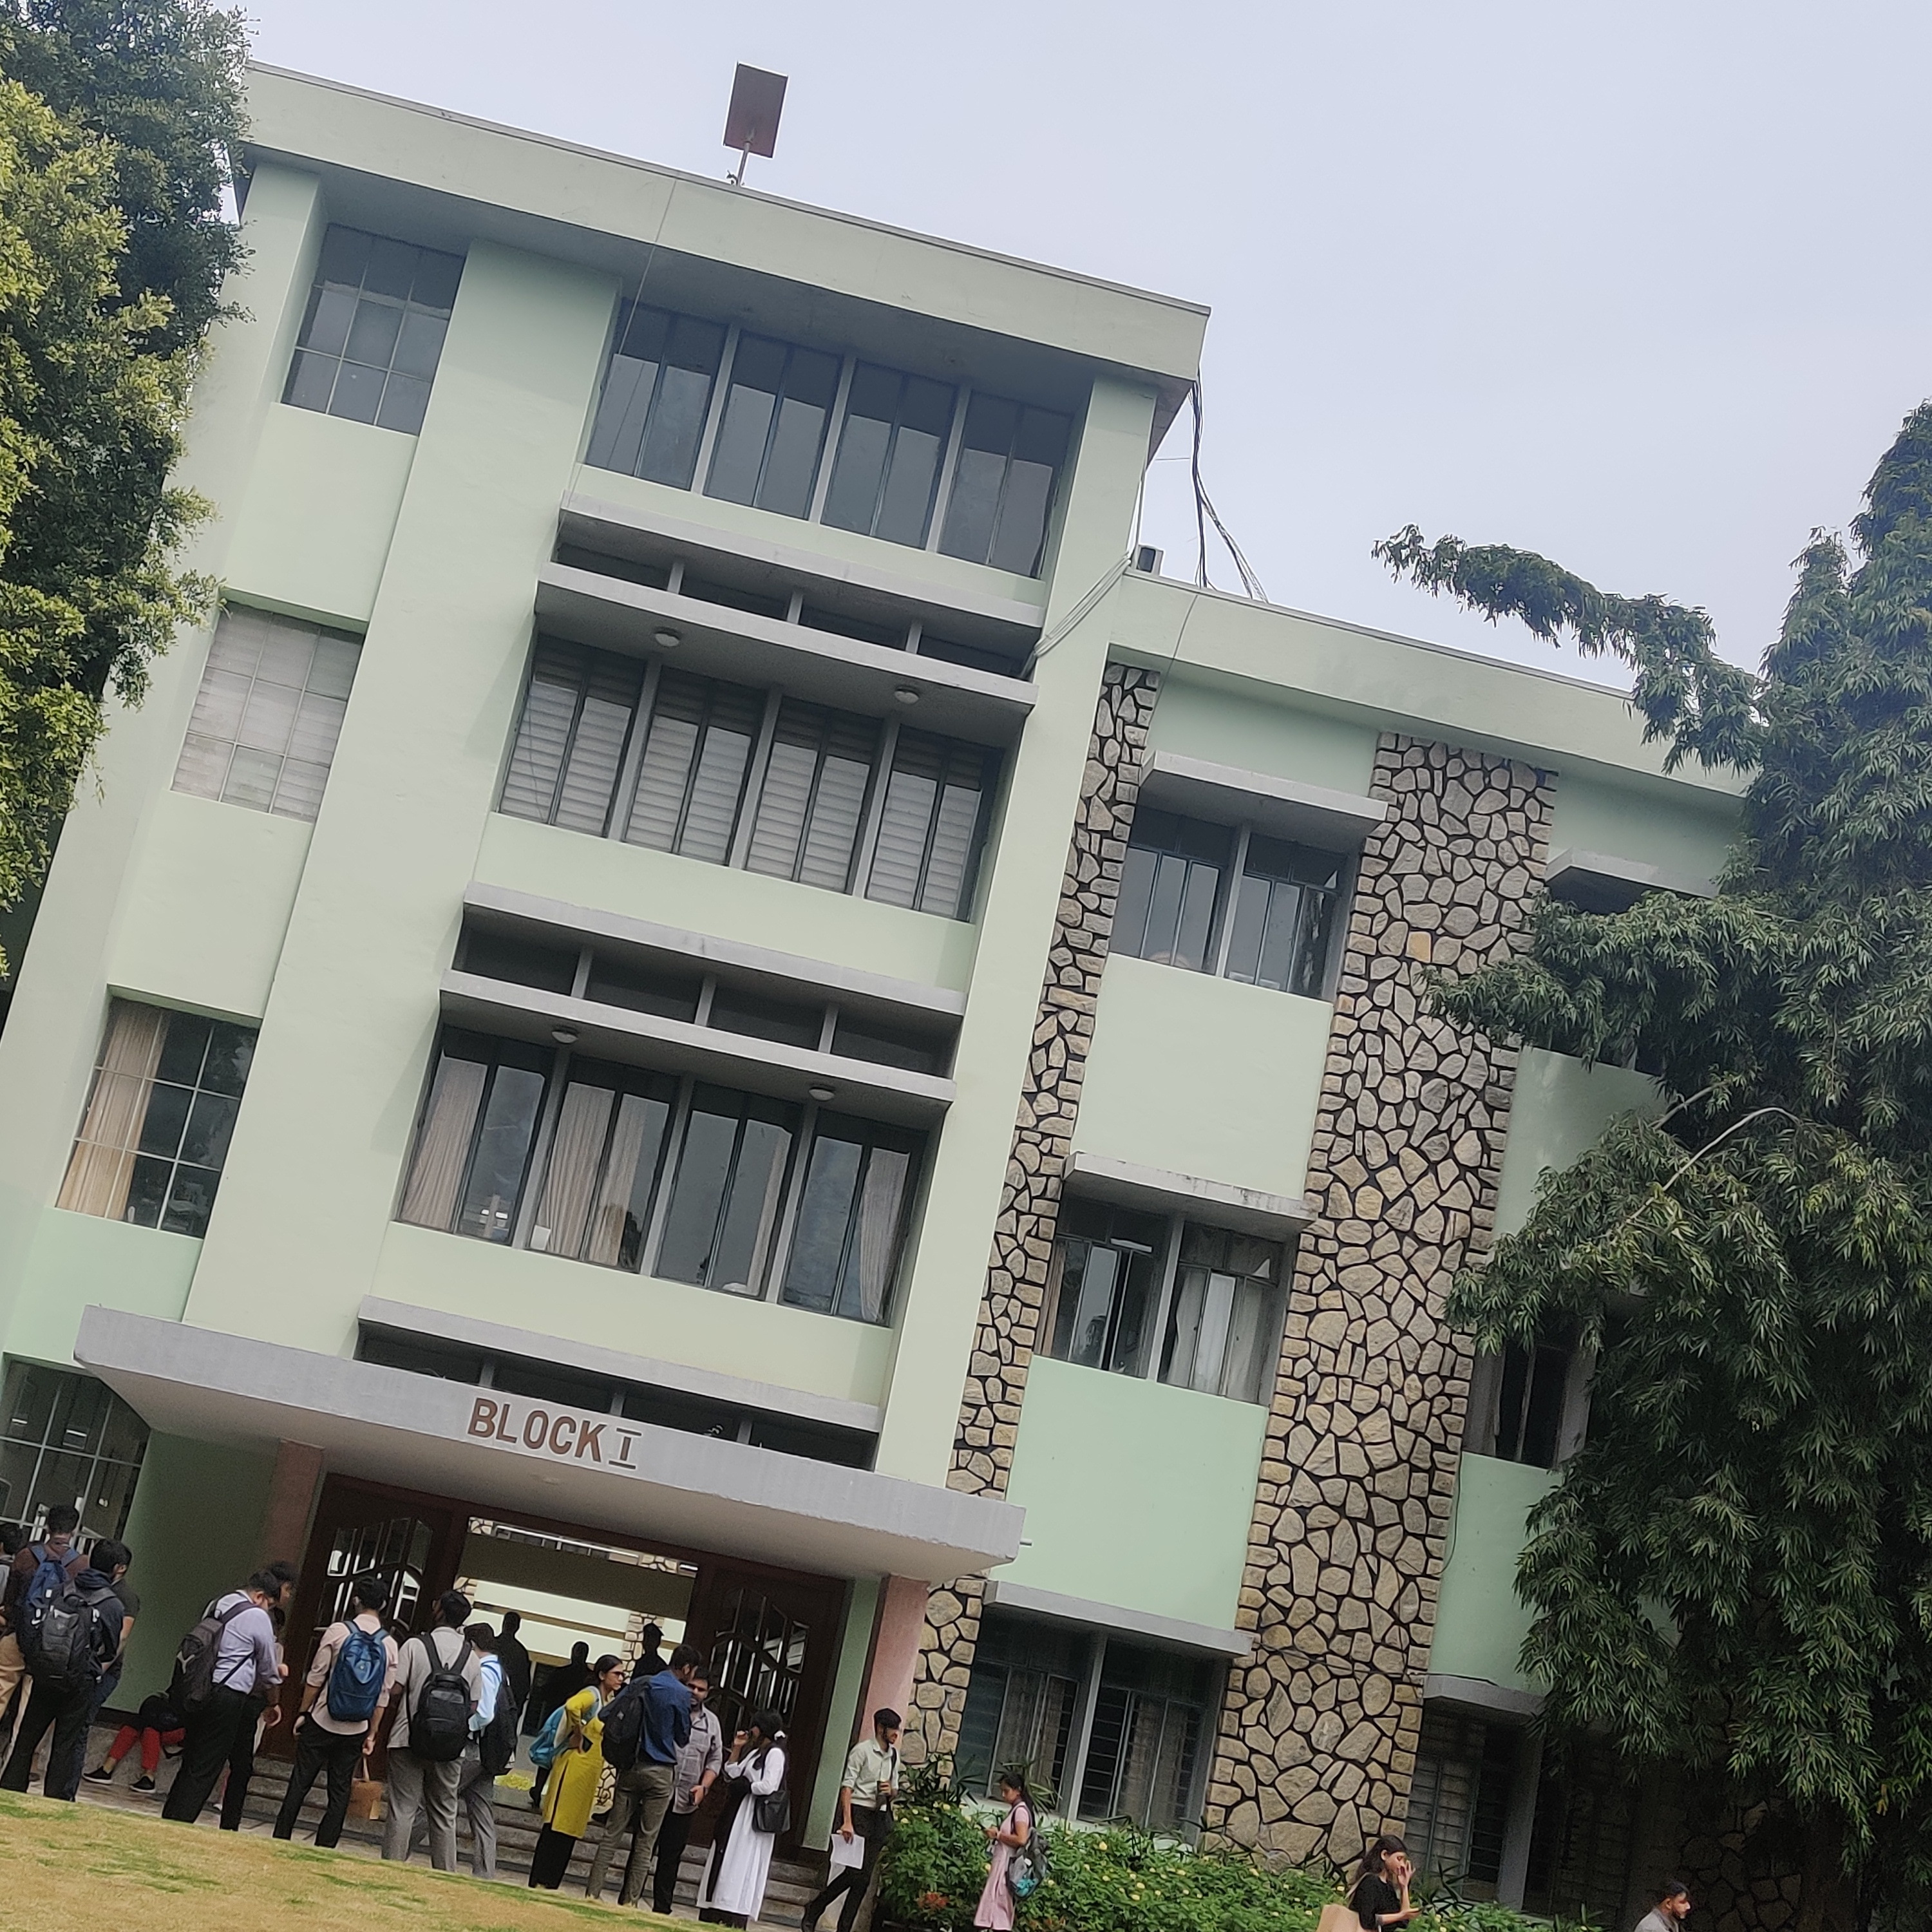Block 1: (64, 60, 1606, 1737)
